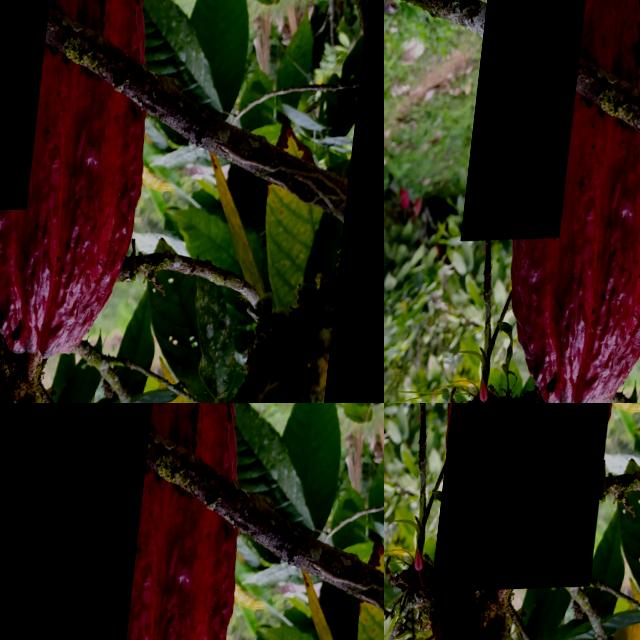Fitoftora: (417, 220, 452, 292), (627, 24, 640, 108)
Monilia: (469, 0, 592, 242), (402, 84, 444, 234)
Sana: (0, 403, 172, 640), (444, 403, 640, 594), (233, 403, 311, 527)
